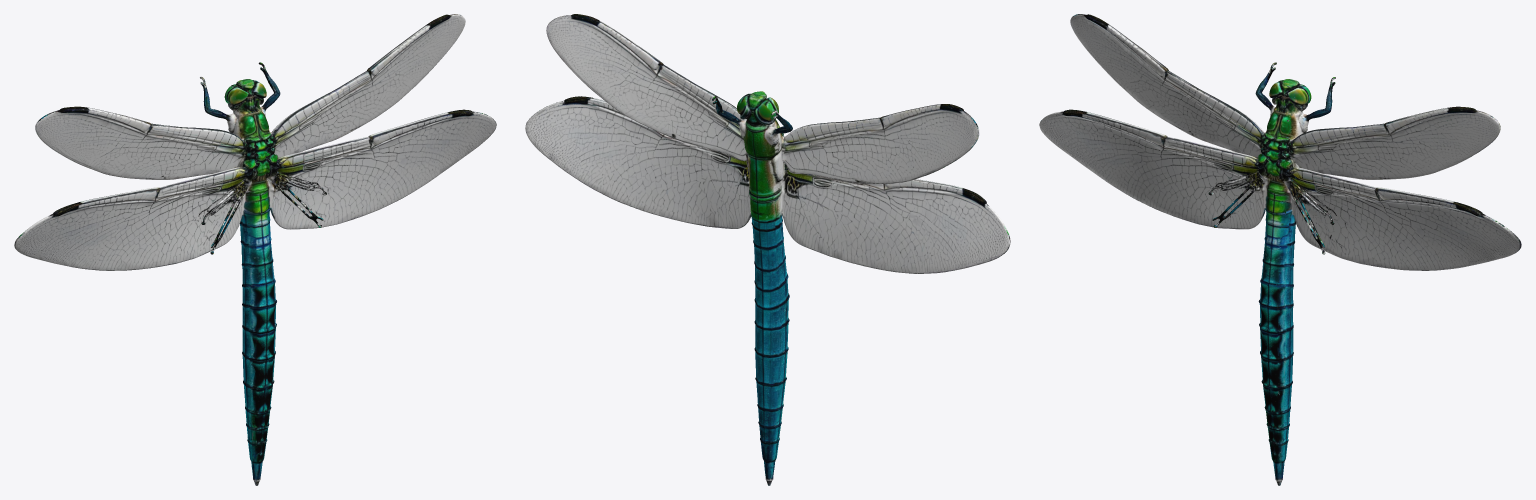
The model's file is dragonfly.glb.
The picture shows the model from 3 angles, left to right: view 1: azimuth 30°, elevation 25°; view 2: azimuth 150°, elevation 25°; view 3: azimuth 330°, elevation 25°; orthographic projection.
Parts seen in each view (by area): view 1: dragonfly; view 2: dragonfly; view 3: dragonfly.
Boxes of the visible parts, <box> form: dragonfly: <box>14,14,496,485</box>; dragonfly: <box>525,14,1010,485</box>; dragonfly: <box>1039,14,1521,485</box>.
Bounding box in the file's own units: 1 × 0.8401 × 0.1376.
Materials: 1 (1 with a texture image).
